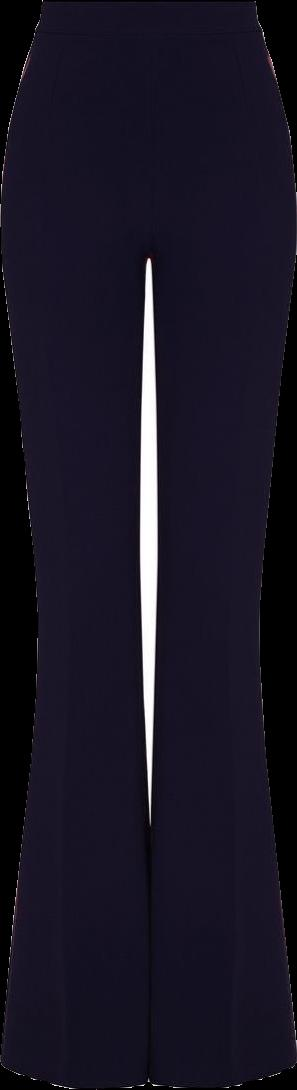Hemline: (144, 1049, 296, 1088), (0, 1053, 152, 1089)
Pantleg: (144, 0, 296, 1086), (2, 3, 151, 1085)
Waistline: (40, 0, 254, 16)
